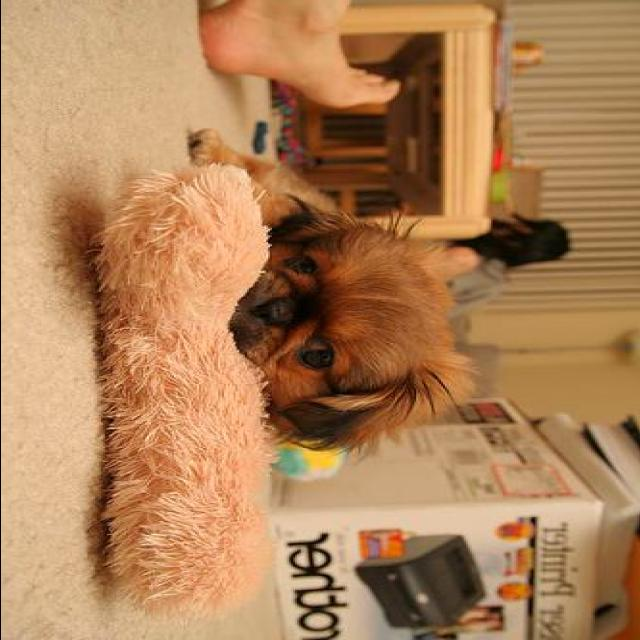pekinese: (180, 127, 487, 470)
